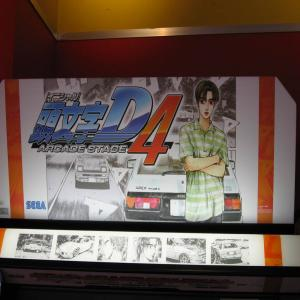Vehicle-registration-plate: (171, 200, 188, 217)
